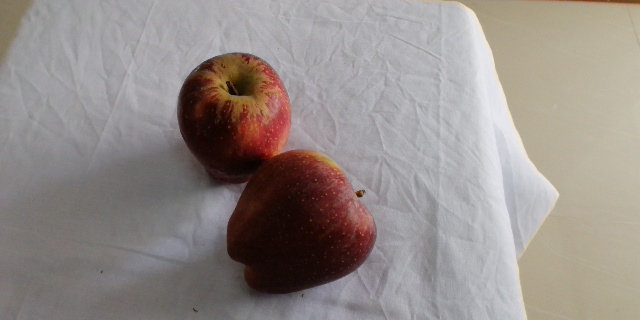apple_kashmir: (227, 150, 378, 297), (175, 49, 298, 186)
